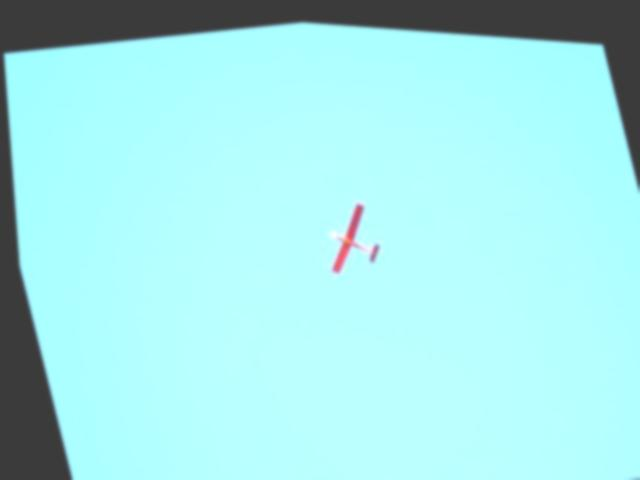iha: (305, 180, 392, 284)
